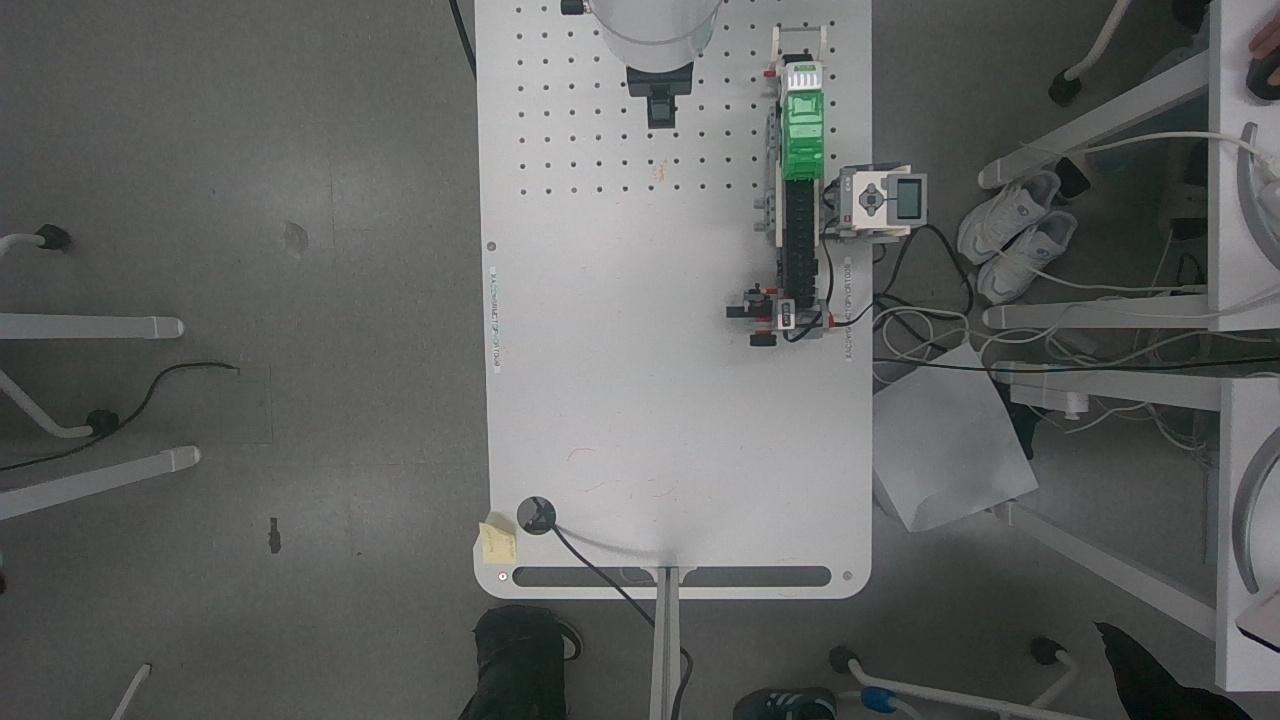truck: (767, 58, 830, 183)
